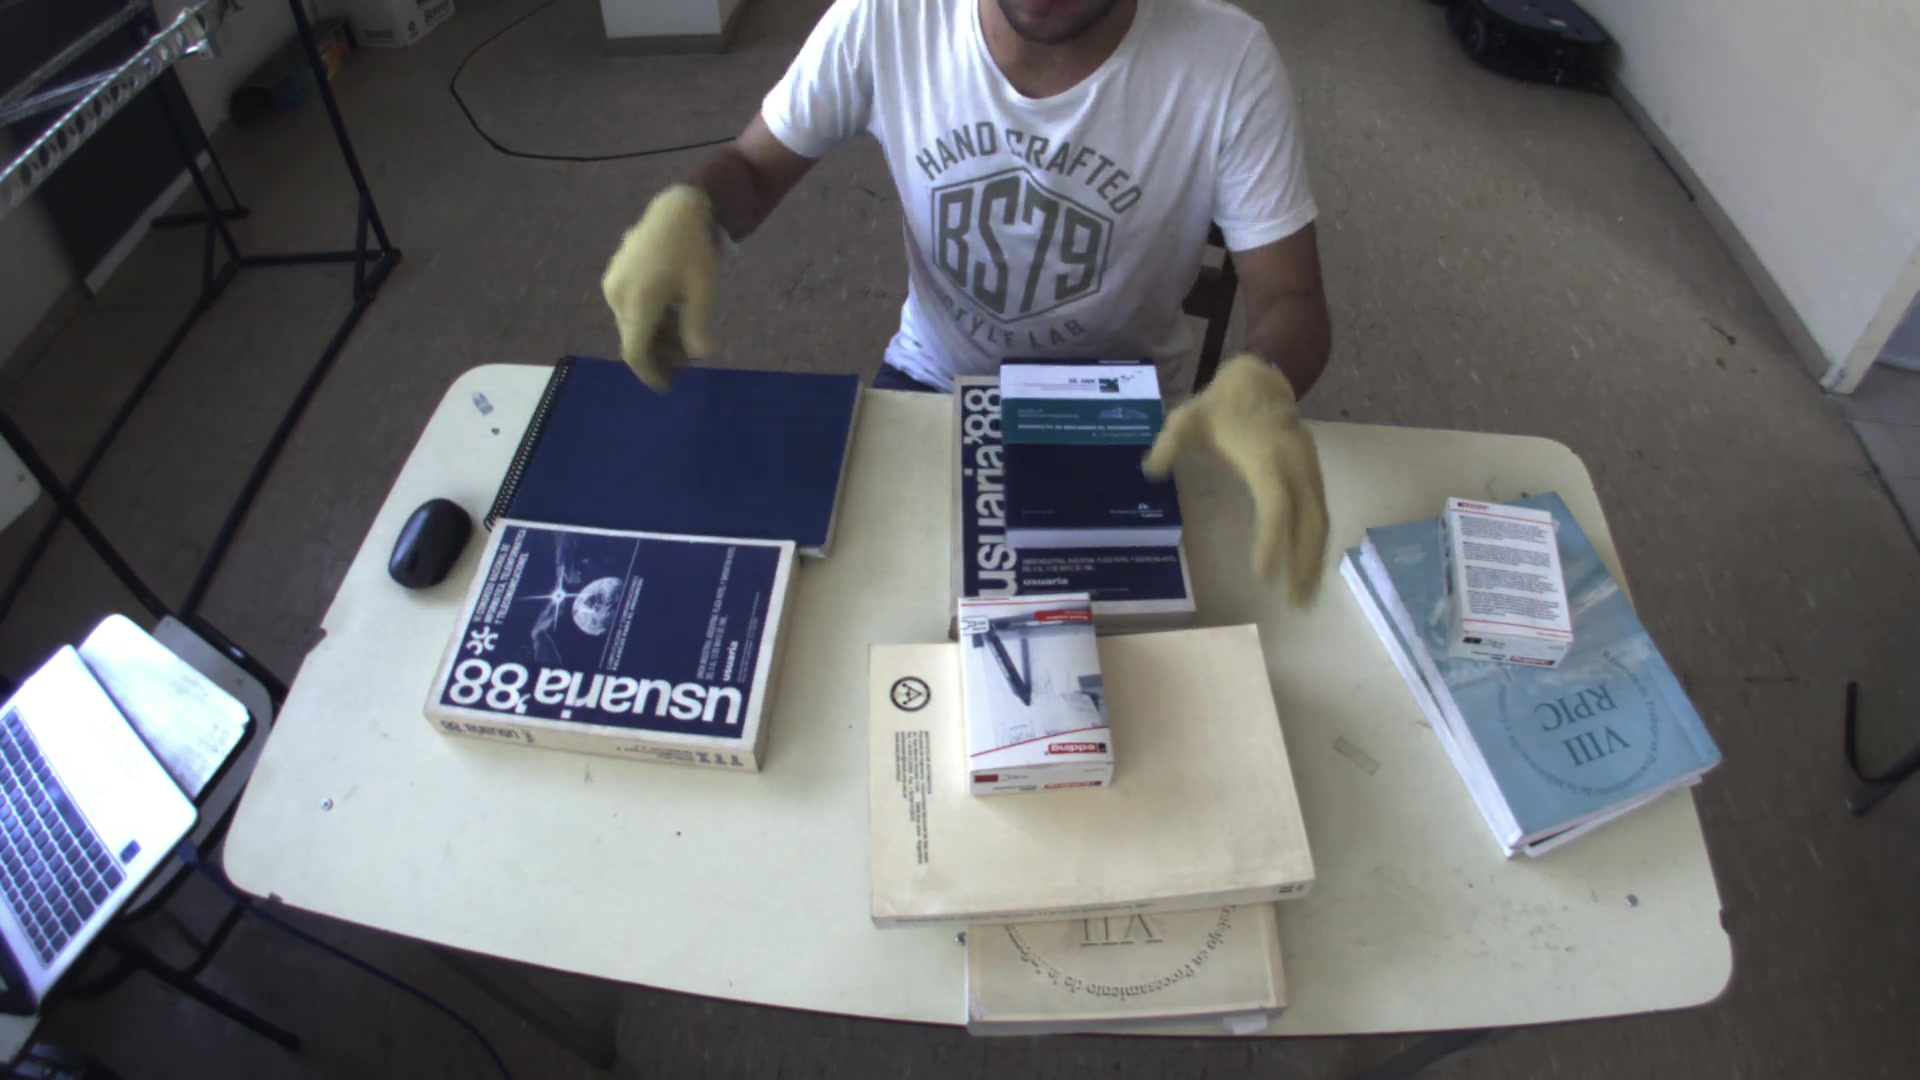hand: (1143, 345, 1352, 607), (588, 177, 732, 384)
